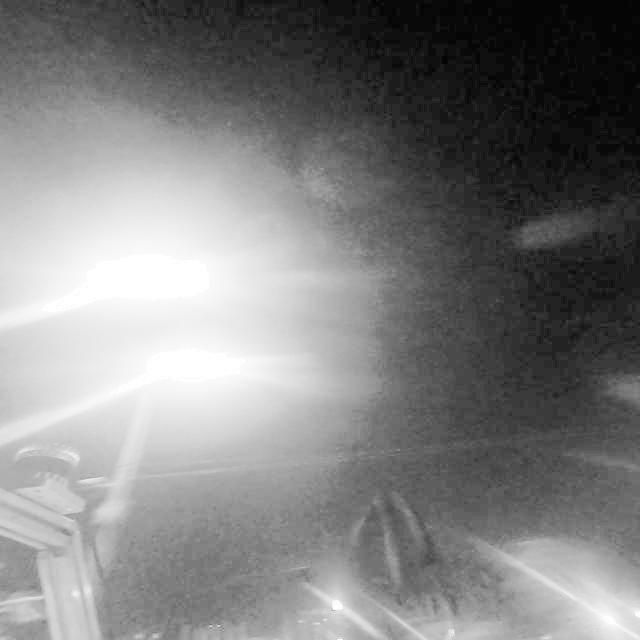Light: (85, 255, 218, 313), (151, 345, 240, 390)
